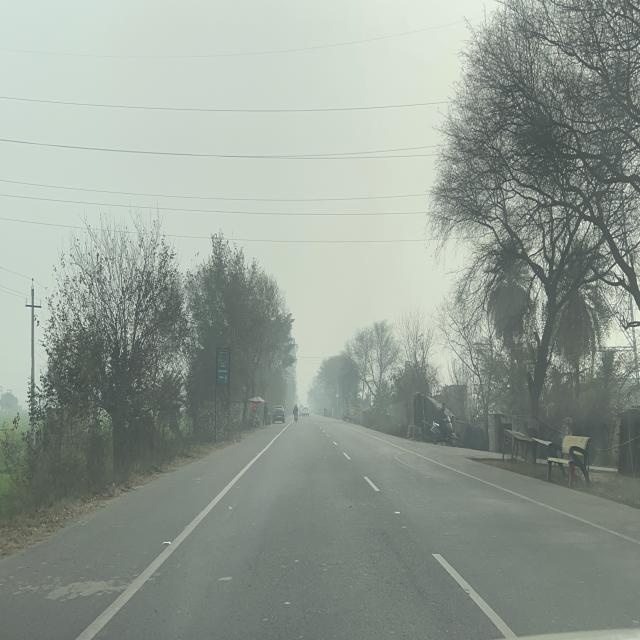GENERAL: (216, 348, 228, 384)
